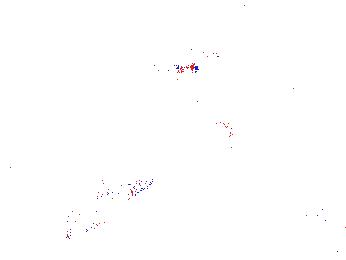glassfish: (65, 176, 157, 222), (219, 119, 301, 157)
red belly glassfish: (119, 20, 173, 38), (185, 40, 222, 64), (154, 62, 201, 78)
